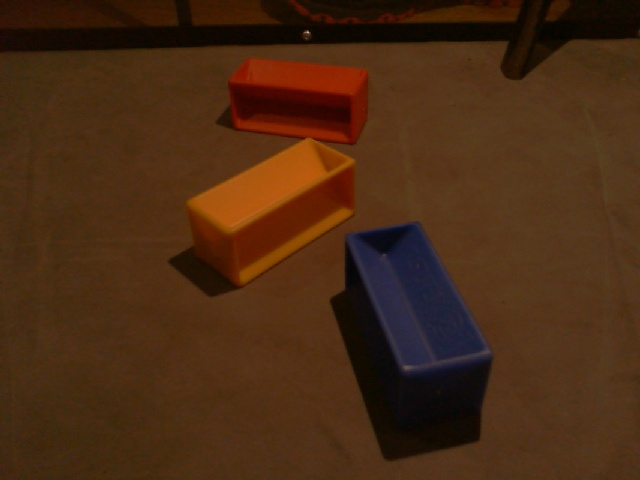BlueSample: (342, 220, 494, 427)
RedSample: (225, 56, 371, 148)
YellowSample: (182, 137, 357, 290)
